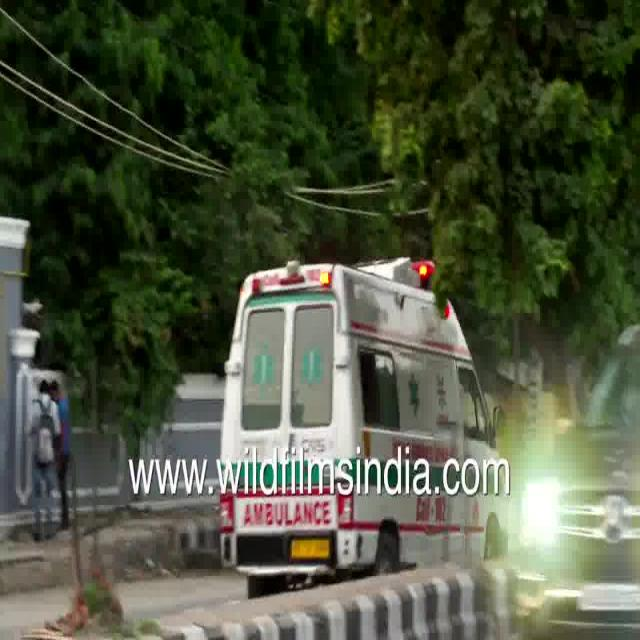ambulance: (222, 251, 501, 452), (218, 498, 502, 570)
